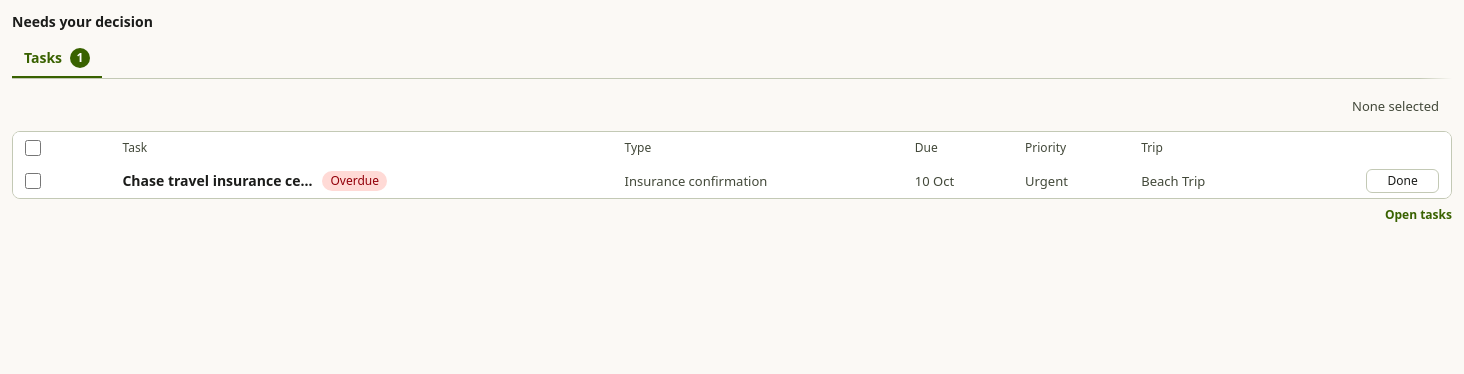
Test case: Tasks due group — a refused Done › keeps the row and says the server's words
Click the button with aria-label "Done: Chase travel insurance certificate". click: (1403, 181)
box: [1366,169,1439,193]
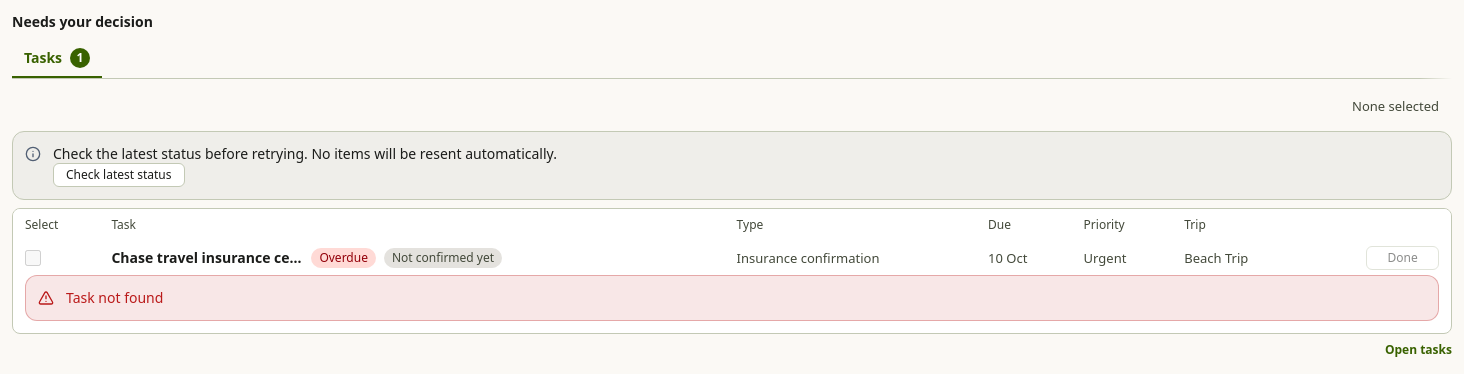
Expected: the text "Chase travel insurance certificate" is shown, [111,248,303,268]
Expected: the message "Task not found" is shown, [25,275,1439,321]
